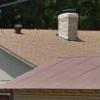Chimney: (52, 4, 83, 45)
